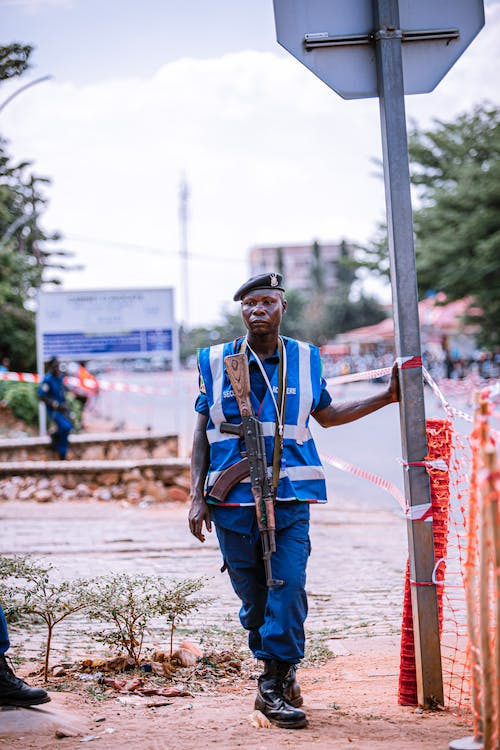gun: (204, 349, 285, 597)
